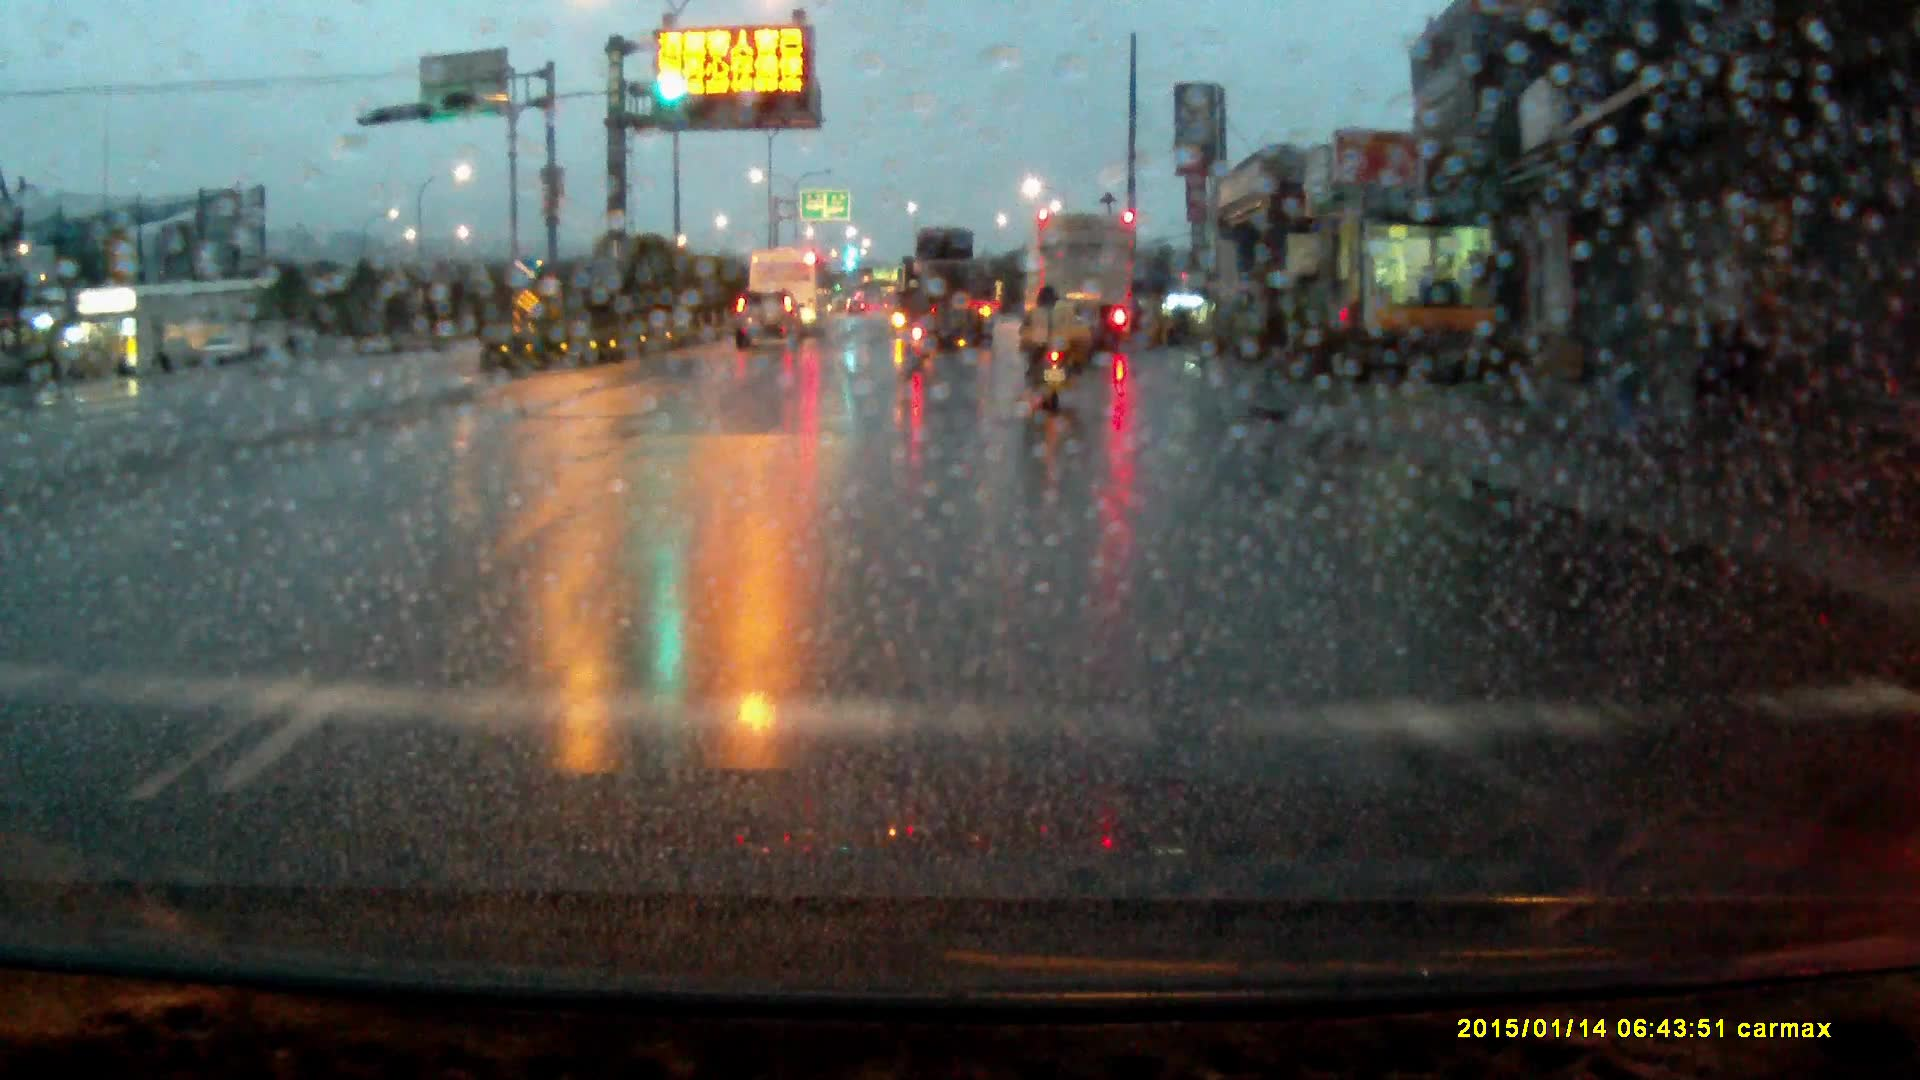rider: (1018, 282, 1087, 411), (899, 277, 936, 359)
vehicle: (1029, 207, 1131, 352), (899, 228, 998, 347), (756, 245, 831, 329), (732, 292, 807, 358)
